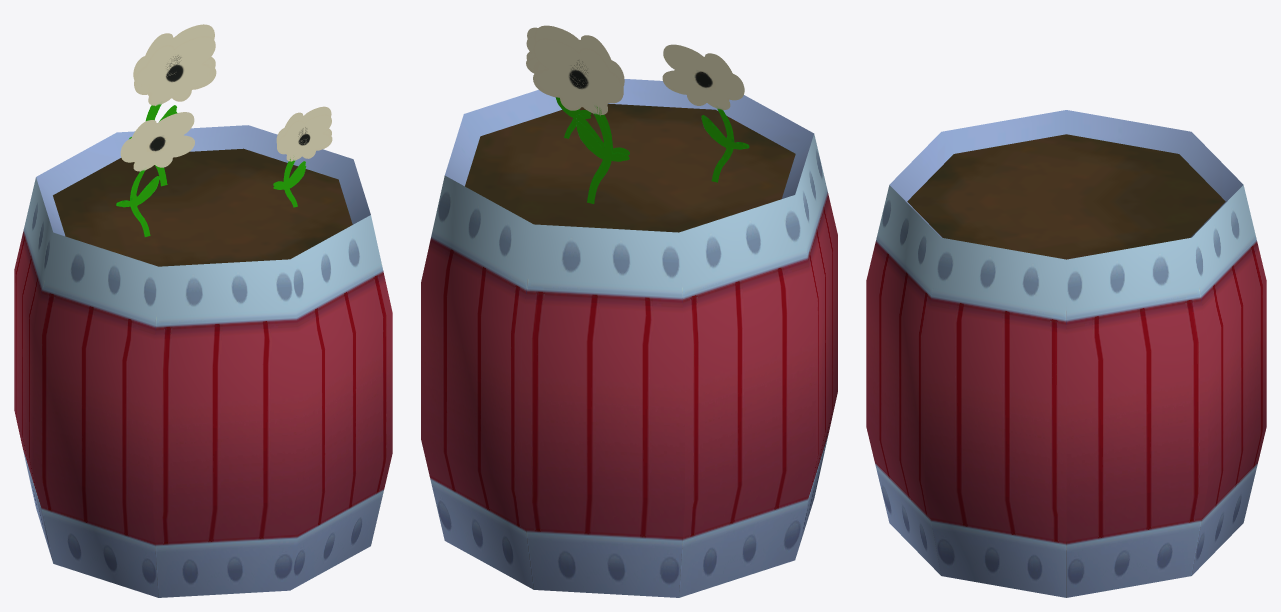
Rendered from saabarrel.dae.
The picture shows the model from 3 angles, left to right: view 1: azimuth 30°, elevation 25°; view 2: azimuth 150°, elevation 25°; view 3: azimuth 270°, elevation 25°; orthographic projection. The views are drawn at different scales.
Parts seen in each view (by area): view 1: FlowerBarrelRed, Object001, Object002, Object003; view 2: FlowerBarrelRed, Object001, Object002, Object003; view 3: FlowerBarrelRed.
Part boxes in pixels (x1,y1,x2,y2): FlowerBarrelRed: [14, 125, 392, 597]; Object001: [129, 24, 216, 186]; Object002: [116, 112, 194, 236]; Object003: [273, 106, 332, 207]; FlowerBarrelRed: [421, 79, 837, 597]; Object001: [533, 25, 629, 203]; Object002: [662, 44, 749, 182]; Object003: [526, 27, 591, 138]; FlowerBarrelRed: [866, 110, 1266, 597].
Bounding box in the file's own units: 2.14 × 2.86 × 2.15.
